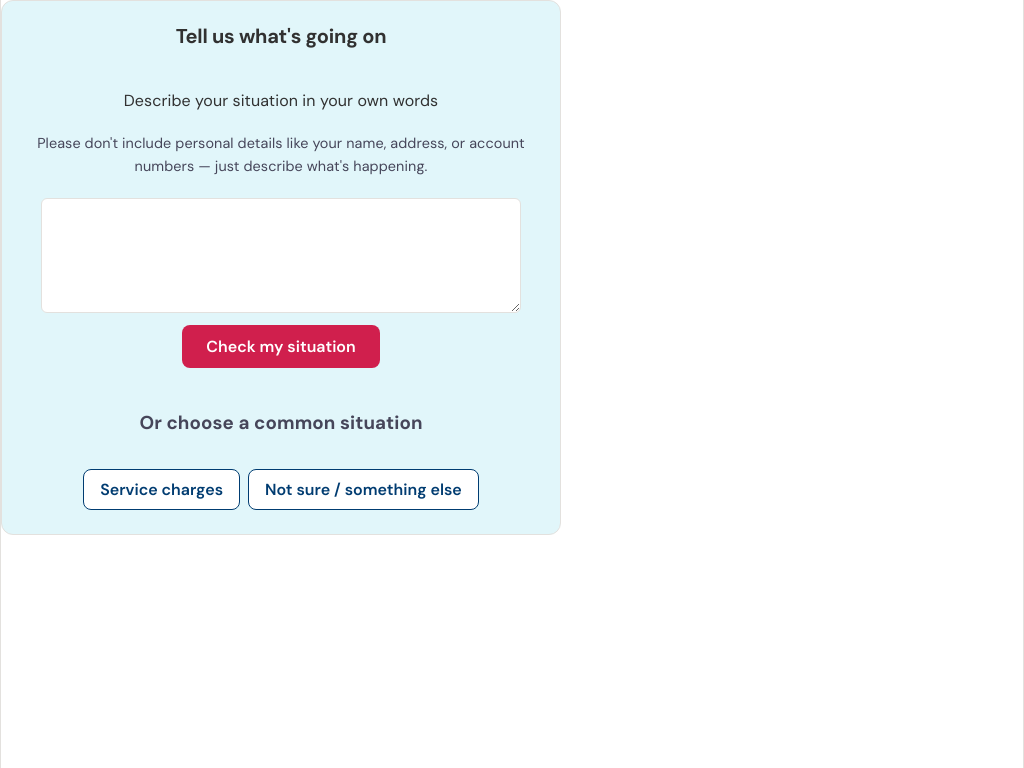
it: TriageForm › shows a submit error when the triage request rejects
Expected: the button "Service charges" is shown, left=83, top=469, right=240, bottom=510
Type "I got an invoice for a service charge" into the text box labelled "Describe your situation in your own words" at (281, 256), box left=41, top=198, right=521, bottom=313
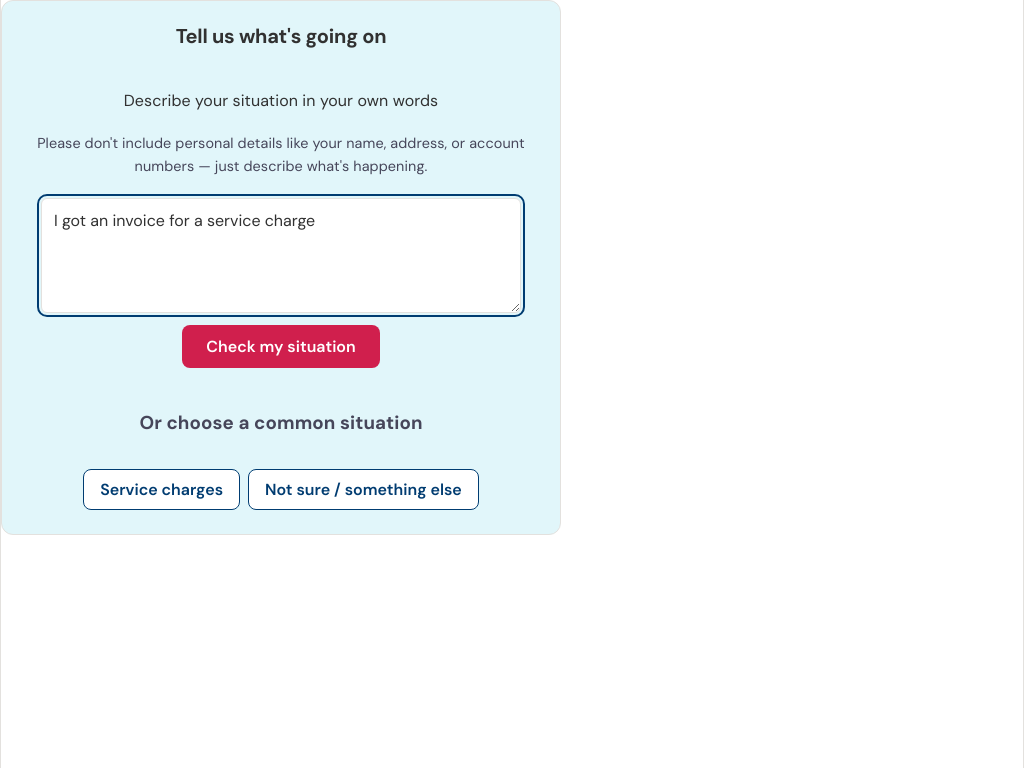
Click the button "Check my situation" at (281, 347), box left=182, top=325, right=380, bottom=368
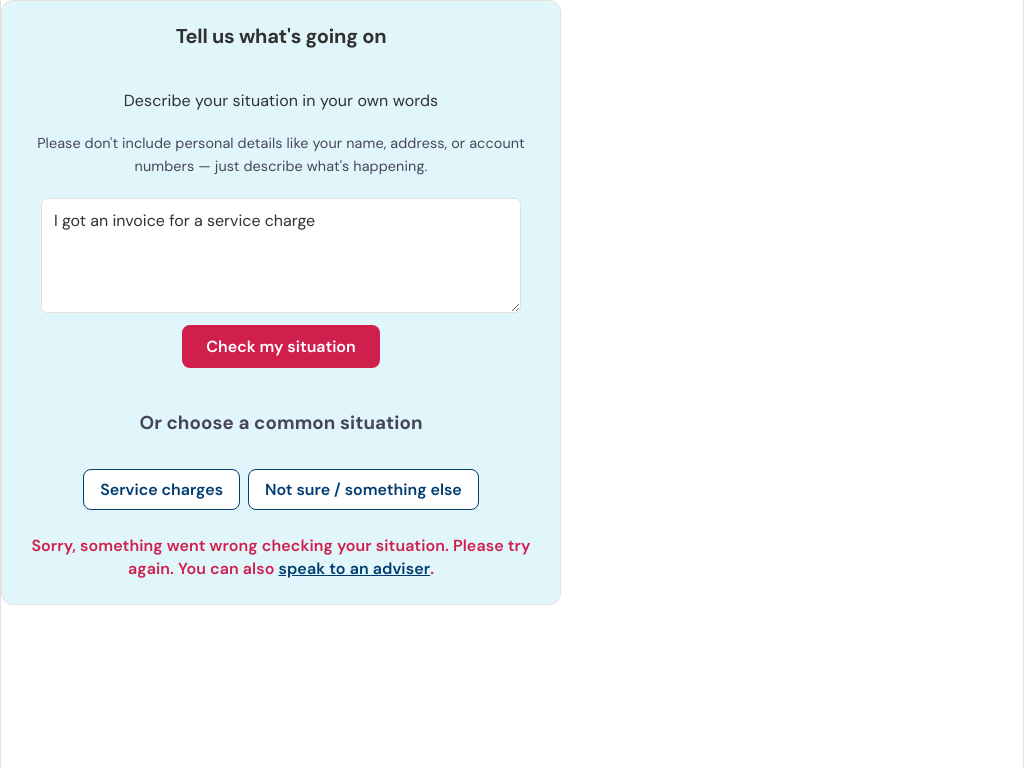
Expected: the message shows "Sorry, something went wrong checking your situation. Please try again.", left=31, top=535, right=531, bottom=579
